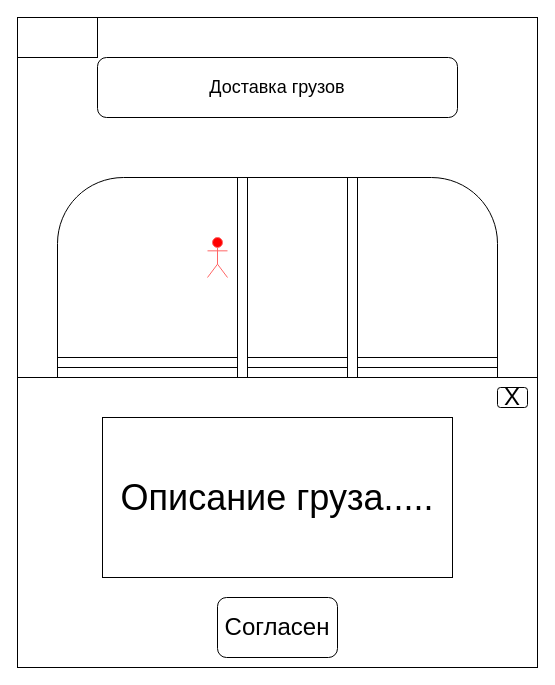
This 555x685 diagram has some shape labels left out. Each missing label, with the centre of its shape:
"Клиент-водитель" goes at (x=57, y=37).
"Посылка" goes at (x=217, y=257).
